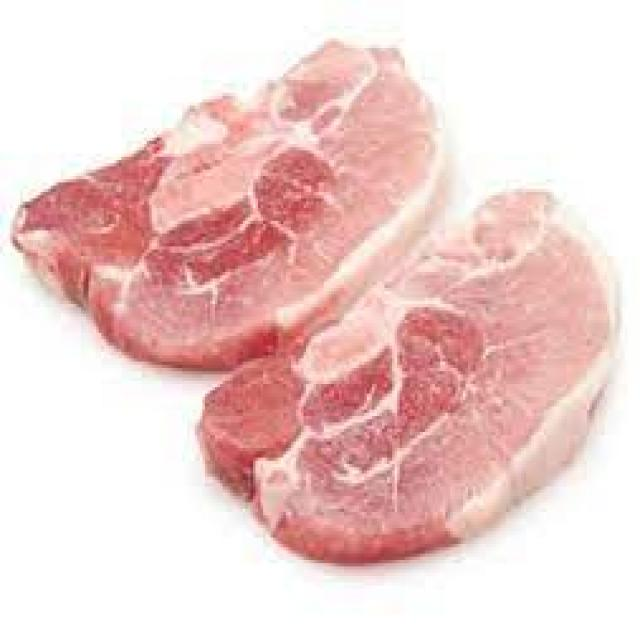Pork: (191, 194, 619, 557), (3, 42, 451, 377)
